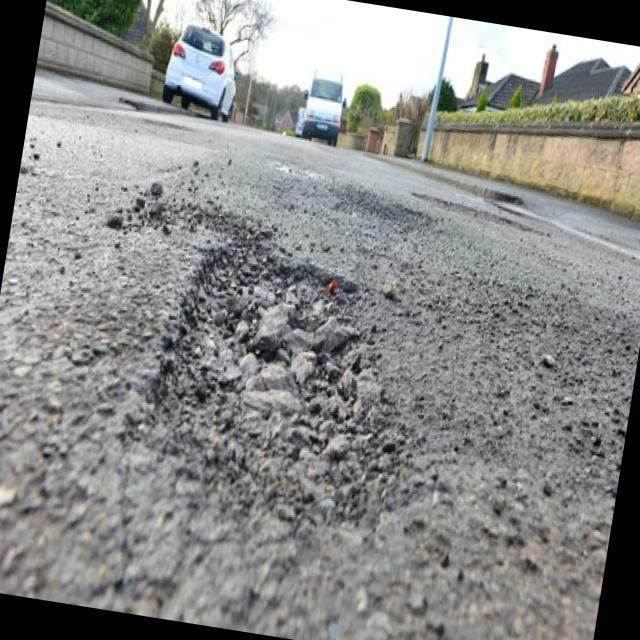Pothole: (108, 214, 431, 576), (330, 182, 436, 239)
